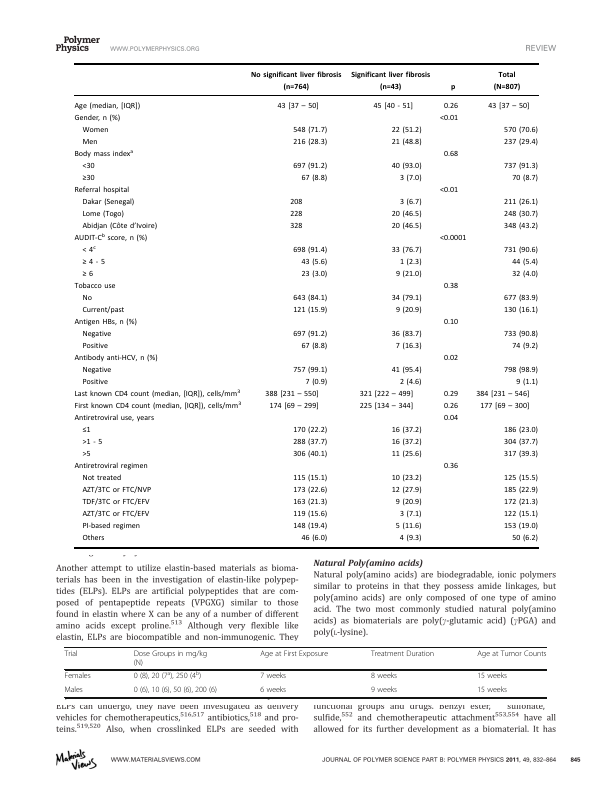borderless: (74, 62, 538, 547), (63, 646, 546, 697)
cell: (250, 70, 342, 91), (74, 400, 242, 411), (74, 388, 241, 399), (350, 70, 431, 91), (133, 650, 208, 668), (133, 686, 218, 696), (133, 670, 202, 682), (74, 232, 148, 243), (74, 354, 159, 363), (74, 414, 155, 423), (81, 509, 150, 519), (82, 222, 158, 231), (74, 462, 149, 471), (74, 148, 134, 159), (476, 650, 547, 659), (81, 486, 152, 495), (259, 650, 329, 659), (81, 498, 151, 507), (74, 102, 141, 111), (493, 70, 521, 91), (370, 650, 435, 659), (74, 318, 138, 327), (81, 522, 141, 531), (74, 186, 130, 195), (264, 390, 320, 399), (359, 390, 414, 399), (475, 390, 530, 399), (359, 402, 414, 411), (82, 198, 135, 207), (268, 402, 320, 411), (479, 402, 530, 411), (74, 114, 121, 123), (81, 473, 122, 483), (277, 102, 320, 111), (487, 102, 530, 111), (82, 210, 125, 219), (74, 282, 117, 291), (82, 306, 125, 315), (373, 102, 414, 111), (292, 365, 328, 375), (503, 365, 539, 375), (292, 473, 328, 483), (503, 473, 539, 483), (292, 509, 328, 519), (503, 509, 539, 519), (292, 126, 328, 135), (503, 126, 539, 135), (292, 138, 328, 147), (503, 138, 539, 147), (292, 162, 328, 171), (503, 162, 539, 171), (503, 198, 539, 207), (503, 210, 539, 219), (503, 222, 539, 231), (292, 246, 328, 255), (503, 246, 539, 255), (292, 294, 328, 303), (503, 294, 539, 303), (292, 306, 328, 315), (503, 306, 539, 315), (292, 330, 328, 339), (503, 330, 539, 339), (292, 426, 328, 435), (503, 426, 539, 435), (292, 438, 328, 447), (503, 438, 539, 447), (292, 450, 328, 459), (503, 450, 539, 459), (292, 486, 328, 495), (503, 486, 539, 495), (292, 498, 328, 507), (503, 498, 539, 507), (292, 522, 328, 531), (503, 522, 539, 531), (476, 672, 508, 682), (476, 686, 508, 696), (391, 365, 423, 375), (391, 473, 423, 483), (81, 365, 112, 375), (391, 126, 423, 135), (391, 138, 423, 147), (391, 162, 423, 171), (391, 210, 423, 219), (391, 222, 423, 231), (391, 246, 423, 255), (391, 294, 423, 303), (391, 330, 423, 339), (391, 426, 423, 435), (391, 438, 423, 447), (391, 450, 423, 459), (391, 486, 423, 495), (259, 672, 287, 682), (370, 672, 398, 682), (259, 686, 287, 696), (370, 686, 398, 696), (81, 330, 112, 339), (64, 672, 91, 682), (300, 174, 328, 183), (511, 174, 539, 183), (439, 234, 467, 243), (300, 258, 328, 267), (511, 258, 539, 267), (300, 270, 328, 279), (395, 270, 423, 279), (511, 270, 539, 279), (395, 306, 423, 315), (81, 342, 109, 351), (300, 342, 328, 351), (395, 342, 423, 351), (511, 342, 539, 351), (81, 378, 109, 387), (395, 498, 423, 507), (395, 522, 423, 531), (300, 534, 328, 543), (511, 534, 539, 543), (82, 126, 109, 135), (399, 509, 423, 519), (81, 258, 106, 267), (81, 534, 106, 543), (399, 174, 423, 183), (399, 198, 423, 207), (399, 258, 423, 267), (399, 378, 423, 387), (515, 378, 539, 387), (399, 534, 423, 543), (63, 686, 84, 696), (305, 378, 328, 387), (82, 438, 103, 447), (439, 114, 459, 123), (439, 186, 459, 195), (81, 244, 97, 255), (82, 138, 99, 147), (443, 102, 459, 111), (443, 150, 459, 159), (443, 282, 459, 291), (443, 318, 459, 327), (443, 354, 459, 363), (443, 390, 459, 399), (443, 402, 459, 411), (443, 414, 459, 423), (443, 462, 459, 471), (64, 650, 78, 659), (82, 162, 96, 171), (82, 174, 96, 183), (289, 198, 303, 207), (289, 210, 303, 219), (289, 222, 303, 231), (82, 270, 94, 279), (82, 294, 93, 303), (81, 450, 92, 459), (82, 426, 92, 435), (450, 82, 456, 91)
